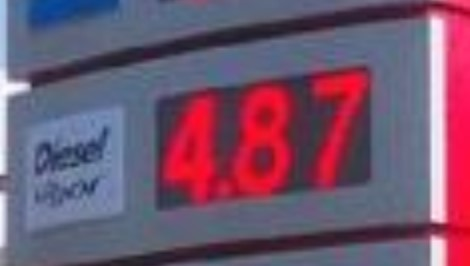digits: (153, 85, 222, 203), (304, 71, 371, 188), (231, 85, 298, 192)
